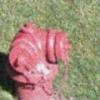a fire hydrant: (7, 19, 75, 98)
